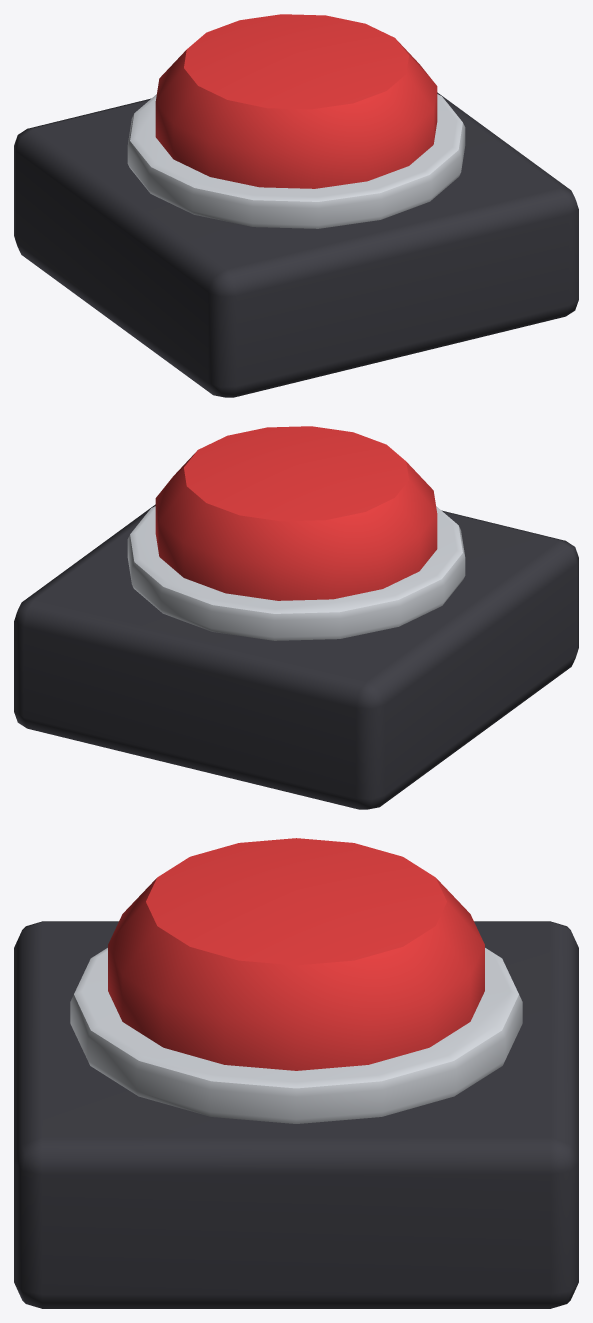
File: BigButton.fbx
3 views of the same model, one above another, from view 1: azimuth 30°, elevation 25°; view 2: azimuth 150°, elevation 25°; view 3: azimuth 270°, elevation 25° (orthographic). The views are drawn at different scales.
Parts seen in each view (by area): view 1: BigButton; view 2: BigButton; view 3: BigButton.
Part boxes in pixels (x1,y1,x2,y2): BigButton: (14,14,578,397); BigButton: (14,426,578,809); BigButton: (14,838,578,1308).
Bounding box in the file's own units: 3 × 1.82 × 3.
Materials: 1 (1 with a texture image).
